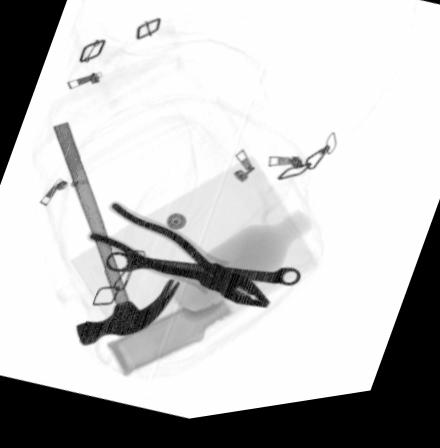Hammer: (51, 123, 178, 350)
Pliers: (84, 203, 270, 317)
Wrench: (104, 254, 300, 295)
